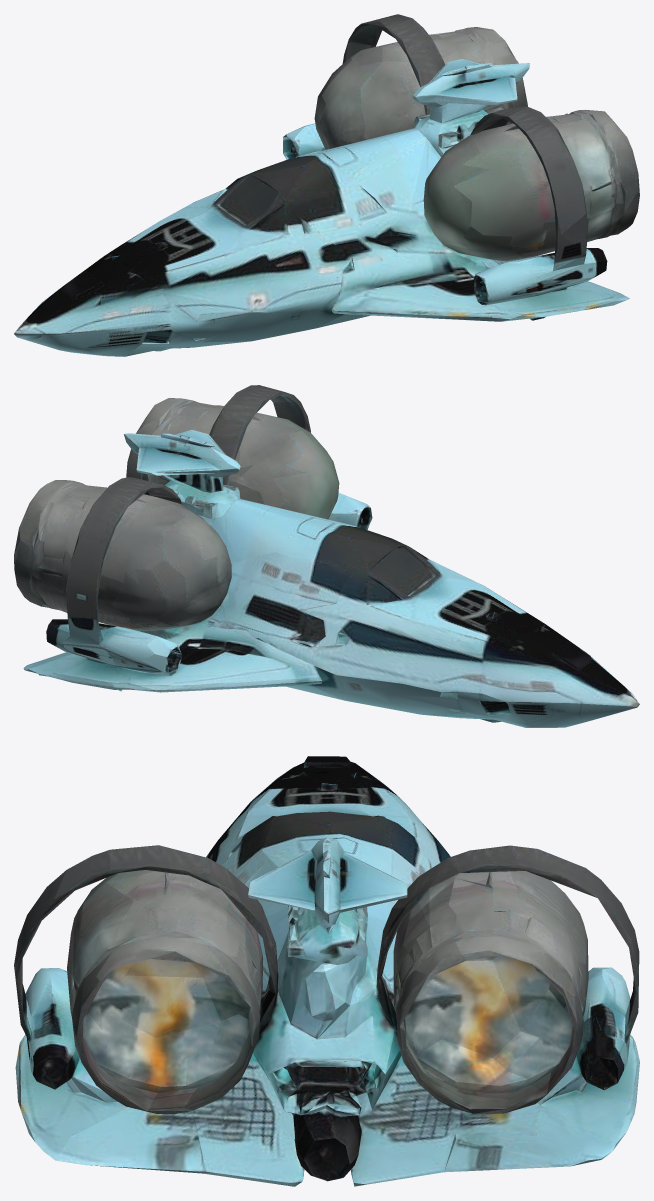
Rendered from nation-x-cruiser.glb.
The picture shows the model from 3 angles, top to bottom: view 1: azimuth 30°, elevation 25°; view 2: azimuth 150°, elevation 25°; view 3: azimuth 270°, elevation 25°; orthographic projection. The views are drawn at different scales.
Size of the model in its own units: 1.9 by 0.7102 by 1.32.
Materials: 1 (1 with a texture image).
